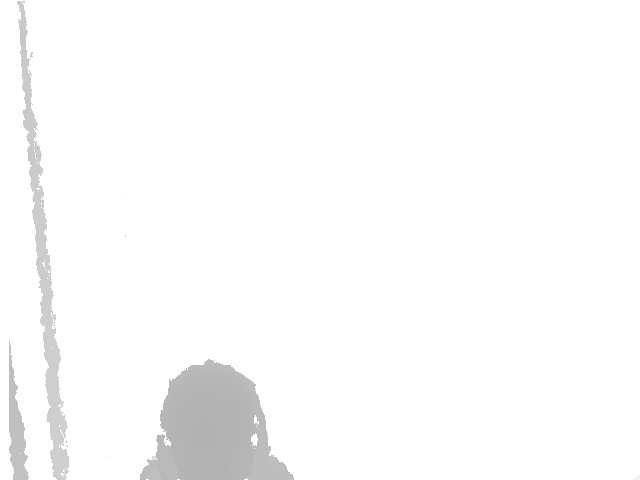head: (160, 361, 259, 480)
person: (140, 361, 293, 480)
